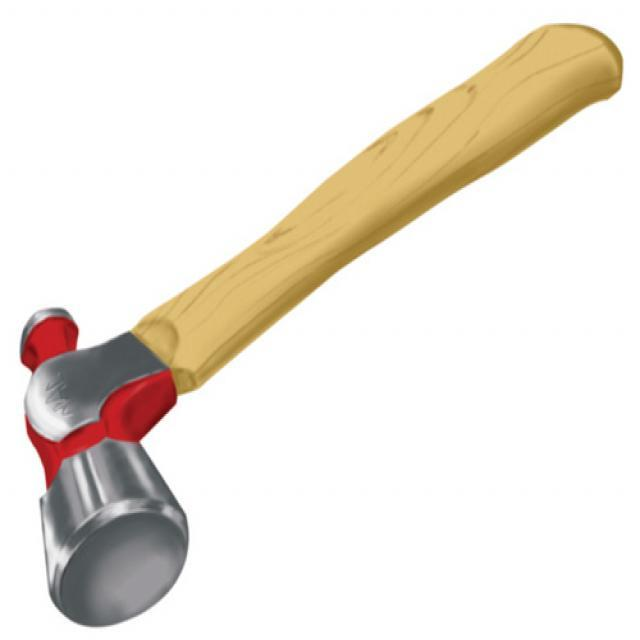hammer: (9, 8, 635, 640)
